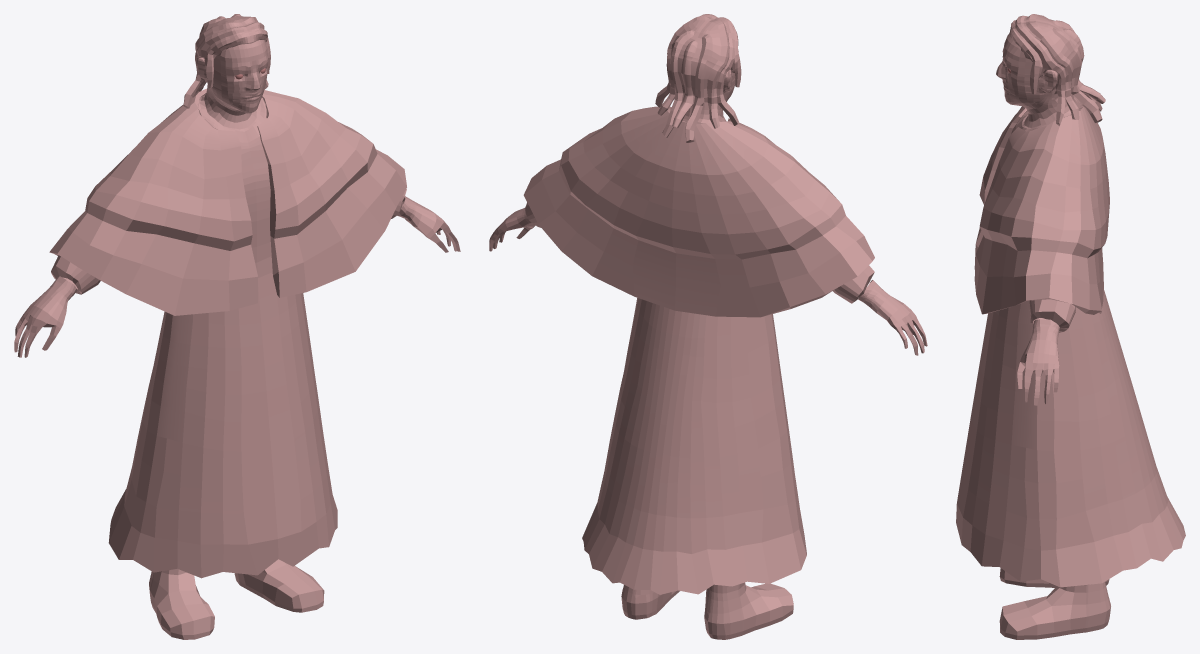
Rendered from Lucero_Low.fbx.
The picture shows the model from 3 angles, left to right: view 1: azimuth 30°, elevation 25°; view 2: azimuth 150°, elevation 25°; view 3: azimuth 270°, elevation 25°; orthographic projection.
Parts seen in each view (by area): view 1: Main, Shawl; view 2: Main, Shawl; view 3: Main, Shawl.
Boxes of the visible parts, x1,y1,x2,y2 form: Main: (14,14,460,639); Shawl: (49,88,406,315); Main: (489,14,927,639); Shawl: (523,106,874,317); Main: (956,14,1185,639); Shawl: (974,95,1109,314).
Bounding box in the file's own units: 142 × 184 × 65.63.
